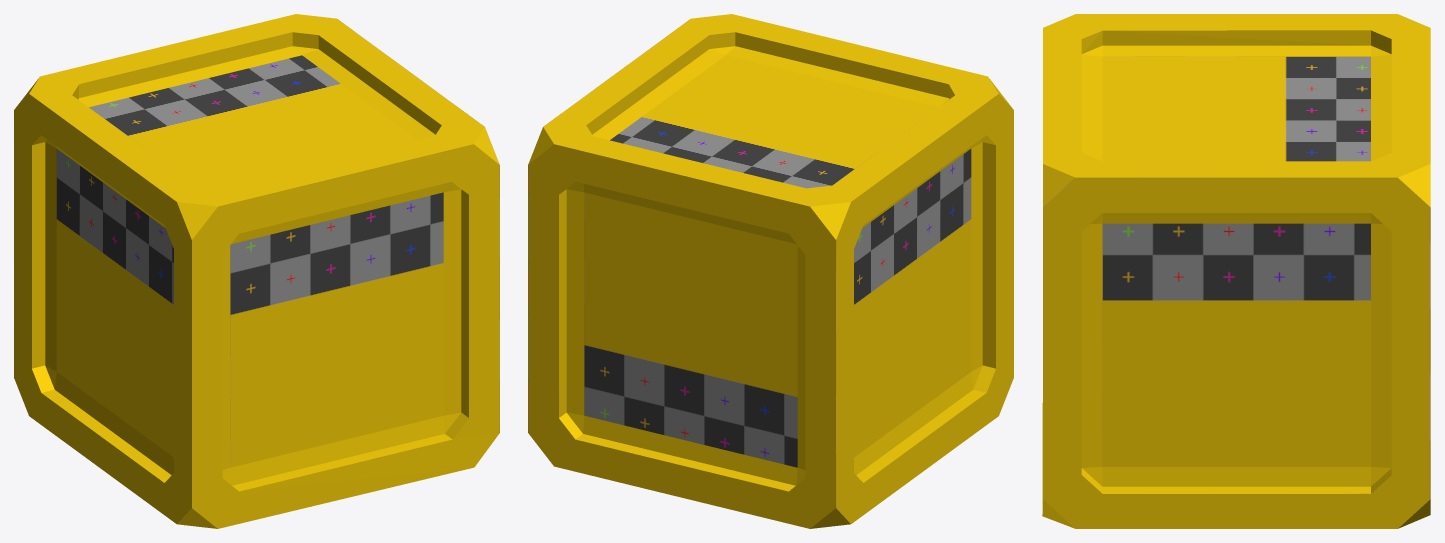
File: Cube_Word_RaidersY.obj
The picture shows the model from 3 angles, left to right: view 1: azimuth 30°, elevation 25°; view 2: azimuth 150°, elevation 25°; view 3: azimuth 270°, elevation 25°; orthographic projection. The views are drawn at different scales.
Visible parts, largest first — view 1: Cube_Cube.001; view 2: Cube_Cube.001; view 3: Cube_Cube.001.
Boxes of the visible parts, bbox=[...] form: Cube_Cube.001: bbox=[14, 14, 499, 528]; Cube_Cube.001: bbox=[528, 14, 1013, 528]; Cube_Cube.001: bbox=[1042, 14, 1430, 528].
Size of the model in its own units: 2 by 2.01 by 2.
Materials: 1 (1 with a texture image).
